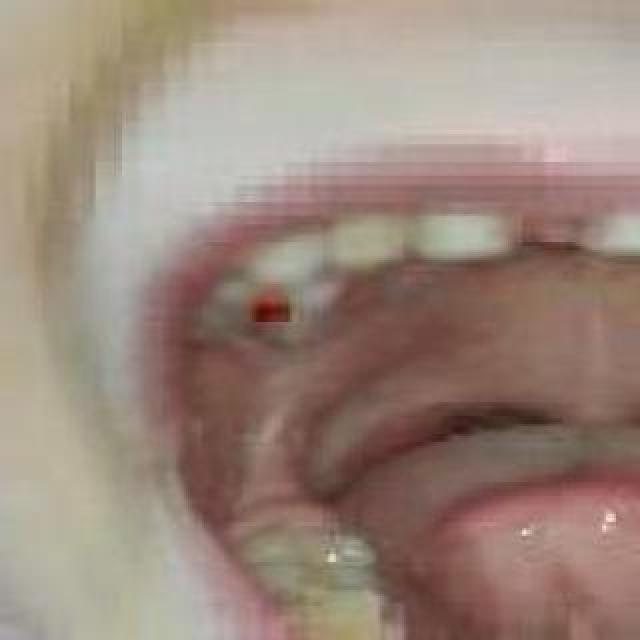missing: (492, 198, 606, 270), (368, 632, 468, 640)
